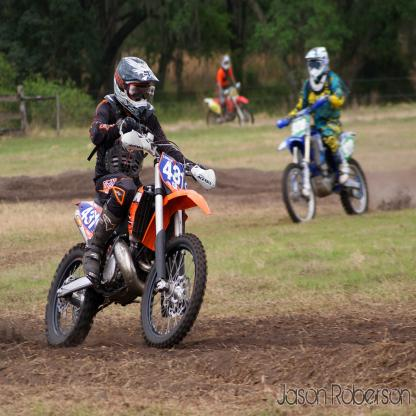Helmet: (114, 55, 161, 104), (304, 44, 330, 82)
